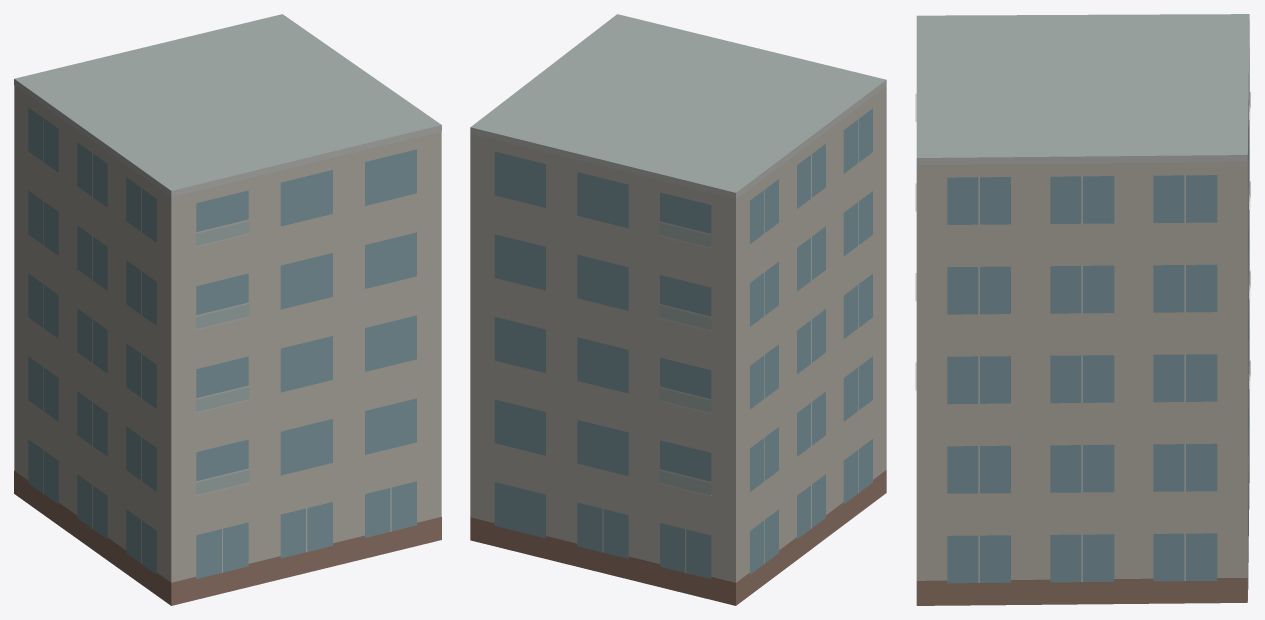
Rendered from survey-upis-32950672.glb.
The picture shows the model from 3 angles, left to right: view 1: azimuth 30°, elevation 25°; view 2: azimuth 150°, elevation 25°; view 3: azimuth 270°, elevation 25°; orthographic projection. The views are drawn at different scales.
Parts seen in each view (by area): view 1: survey-upis-32950672.tmp; view 2: survey-upis-32950672.tmp; view 3: survey-upis-32950672.tmp.
Part boxes in pixels (left/top/right/bottom): survey-upis-32950672.tmp: left=14, top=14, right=441, bottom=605; survey-upis-32950672.tmp: left=470, top=14, right=886, bottom=605; survey-upis-32950672.tmp: left=915, top=14, right=1250, bottom=605.
Size of the model in its own units: 10.84 by 15.7 by 10.65.
